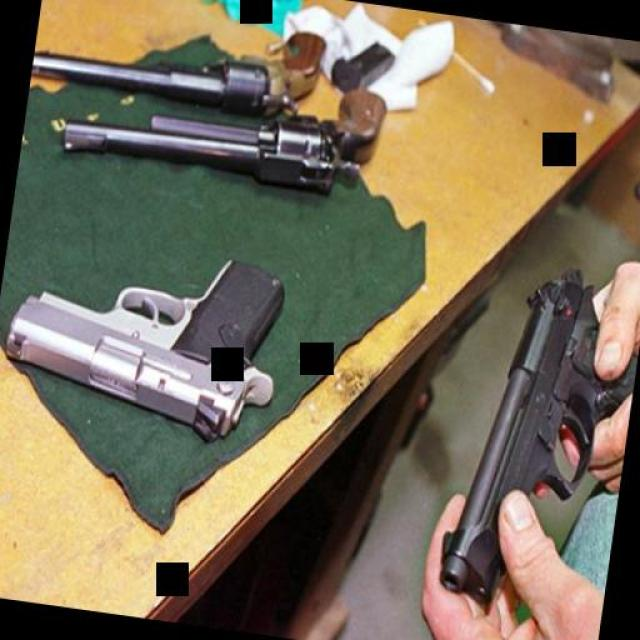gun: (415, 229, 640, 640), (0, 202, 299, 466), (52, 39, 388, 196), (31, 0, 329, 116)
